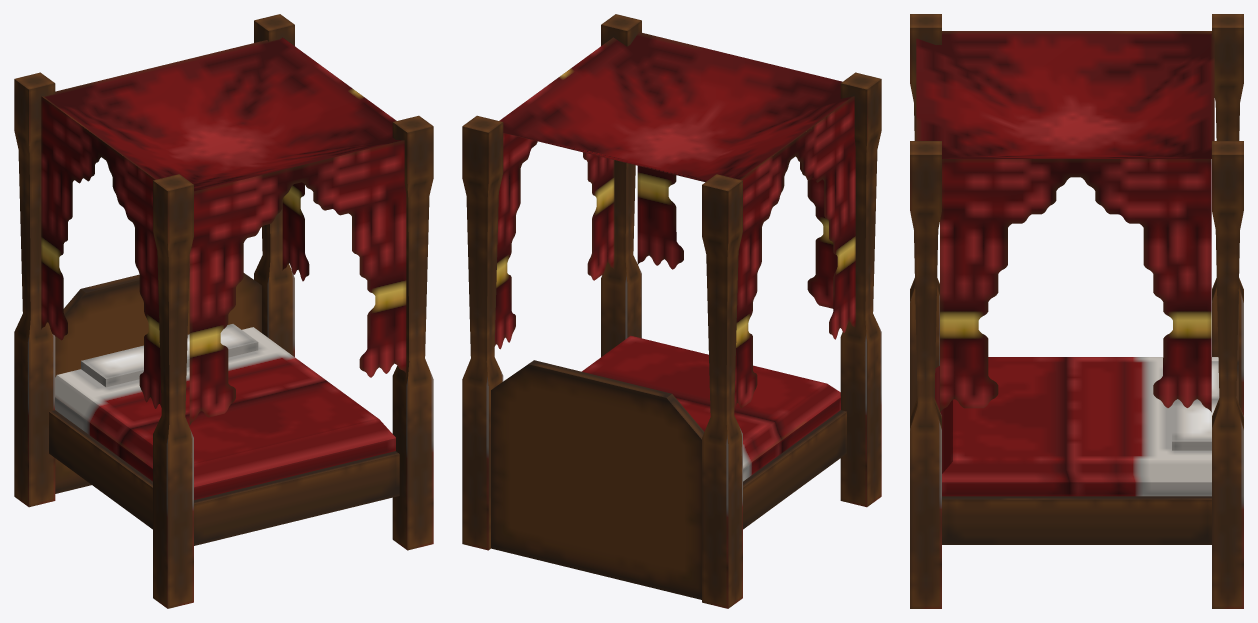
Rendered from hcmw_bed_canopy.obj.
The picture shows the model from 3 angles, left to right: view 1: azimuth 30°, elevation 25°; view 2: azimuth 150°, elevation 25°; view 3: azimuth 270°, elevation 25°; orthographic projection. The views are drawn at different scales.
Parts seen in each view (by area): view 1: pbed_cloth_top1, pbed_cloth_front1, pbed_mattress, pbed_post_fl, pbed_base, pbed_post_fr, pbed_cloth_left1, pbed_back_bl, pbed_backboard, pbed_post_br, pbed_pillow, pbed_cloth_right1 (+1 smaller); view 2: pbed_backboard, pbed_cloth_top1, pbed_back_bl, pbed_cloth_left1, pbed_post_br, pbed_post_fl, pbed_mattress, pbed_cloth_right1, pbed_post_fr, pbed_cloth_front1, pbed_base, pbed_cloth_right2; view 3: pbed_cloth_top1, pbed_cloth_right1, pbed_mattress, pbed_base, pbed_post_fr, pbed_post_br, pbed_cloth_right2, pbed_back_bl, pbed_post_fl, pbed_pillow.
Part boxes in pixels (x1,y1,x2,y2): pbed_cloth_top1: [42, 37, 402, 191]; pbed_cloth_front1: [189, 140, 406, 425]; pbed_mattress: [55, 327, 395, 499]; pbed_post_fl: [153, 174, 193, 608]; pbed_base: [49, 410, 399, 545]; pbed_post_fr: [392, 115, 433, 550]; pbed_cloth_left1: [41, 96, 161, 408]; pbed_back_bl: [14, 72, 55, 507]; pbed_backboard: [55, 264, 261, 493]; pbed_post_br: [254, 14, 294, 356]; pbed_pillow: [81, 324, 258, 387]; pbed_cloth_right1: [282, 182, 309, 280]; pbed_backboard: [491, 360, 704, 599]; pbed_cloth_top1: [499, 32, 853, 182]; pbed_back_bl: [702, 174, 742, 608]; pbed_cloth_left1: [734, 96, 855, 410]; pbed_post_br: [462, 115, 503, 550]; pbed_post_fl: [840, 72, 881, 507]; pbed_mattress: [582, 335, 840, 481]; pbed_cloth_right1: [494, 133, 614, 349]; pbed_post_fr: [601, 14, 641, 356]; pbed_cloth_front1: [637, 50, 837, 308]; pbed_base: [743, 410, 846, 529]; pbed_cloth_right2: [495, 133, 614, 348]; pbed_cloth_top1: [916, 31, 1214, 158]; pbed_cloth_right1: [940, 159, 1211, 412]; pbed_mattress: [935, 357, 1218, 496]; pbed_base: [934, 388, 1211, 544]; pbed_post_fr: [910, 141, 941, 608]; pbed_post_br: [1212, 141, 1243, 608]; pbed_cloth_right2: [940, 159, 1211, 410]; pbed_back_bl: [1212, 14, 1243, 415]; pbed_post_fl: [910, 14, 941, 415]; pbed_pillow: [1172, 361, 1219, 450].
Bounding box in the file's own units: 2 × 3 × 2.
